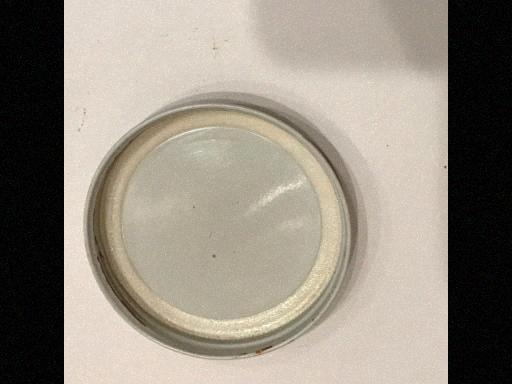metal: (84, 90, 353, 359)
